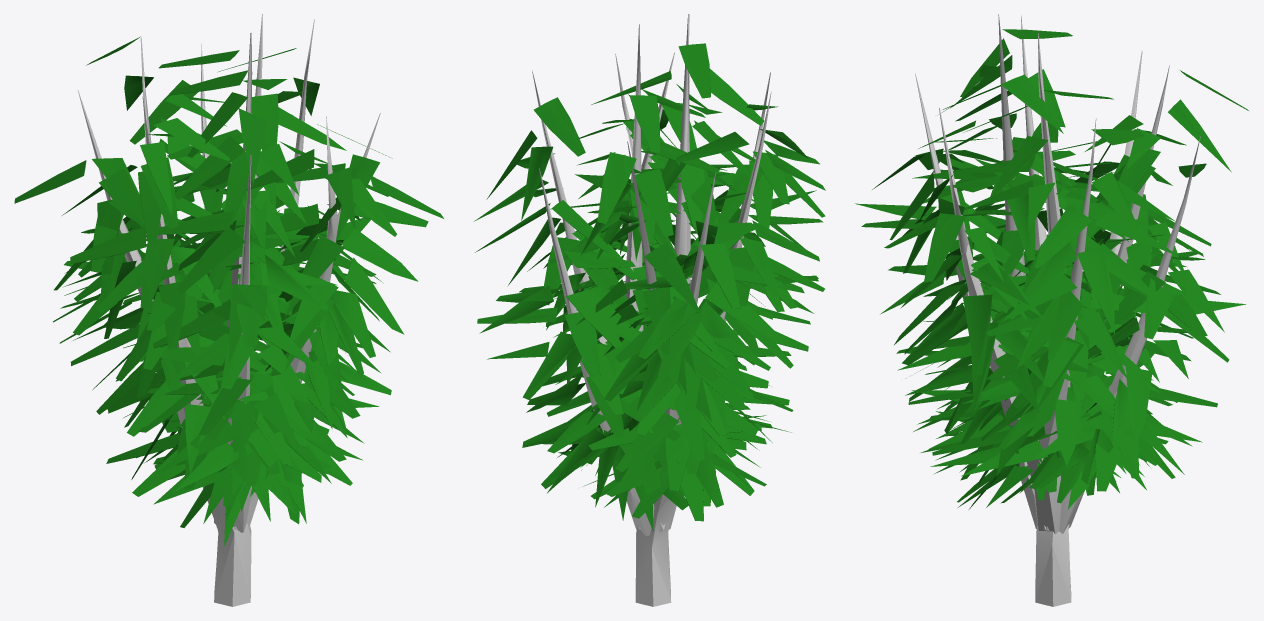
The model's file is Tree3.fbx.
3 views of the same model, side by side, from view 1: azimuth 30°, elevation 25°; view 2: azimuth 150°, elevation 25°; view 3: azimuth 270°, elevation 25° (orthographic). The views are drawn at different scales.
Visible parts, largest first — view 1: Cube.001, tree.001, tree; view 2: Cube.001, tree.001, tree; view 3: Cube.001, tree.001, tree.
Boxes of the visible parts, x1,y1,x2,y2 form: Cube.001: [14, 36, 443, 546]; tree.001: [77, 14, 380, 445]; tree: [202, 486, 258, 606]; Cube.001: [474, 43, 825, 531]; tree.001: [532, 14, 771, 433]; tree: [626, 487, 676, 606]; Cube.001: [855, 29, 1248, 509]; tree.001: [915, 14, 1200, 455]; tree: [1019, 458, 1084, 606].
Bounding box in the file's own units: 153 × 275 × 170.
